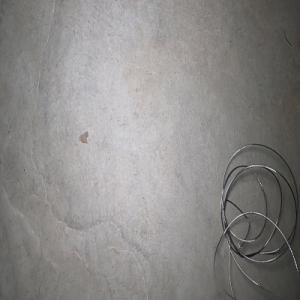Wire: (213, 143, 300, 300)
